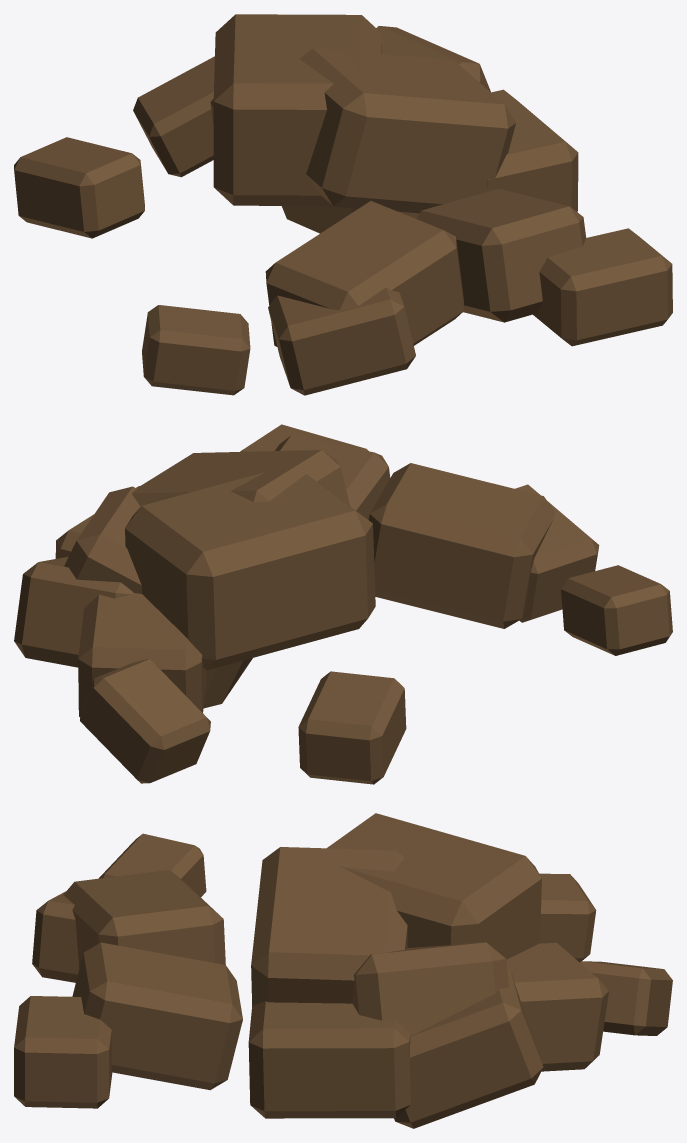
File: prop_rubble5_2cde.glb
3 renders of one model, top to bottom at view 1: azimuth 30°, elevation 25°; view 2: azimuth 150°, elevation 25°; view 3: azimuth 270°, elevation 25°, orthographic.
Parts seen in each view (by area): view 1: prop_rubble5_2cde; view 2: prop_rubble5_2cde; view 3: prop_rubble5_2cde.
Boxes of the visible parts, bbox=[...] form: prop_rubble5_2cde: bbox=[14, 14, 672, 395]; prop_rubble5_2cde: bbox=[14, 424, 672, 784]; prop_rubble5_2cde: bbox=[14, 813, 672, 1128].
Size of the model in its own units: 0.7597 by 0.2969 by 0.8835.
Materials: 1 (1 with a texture image).
